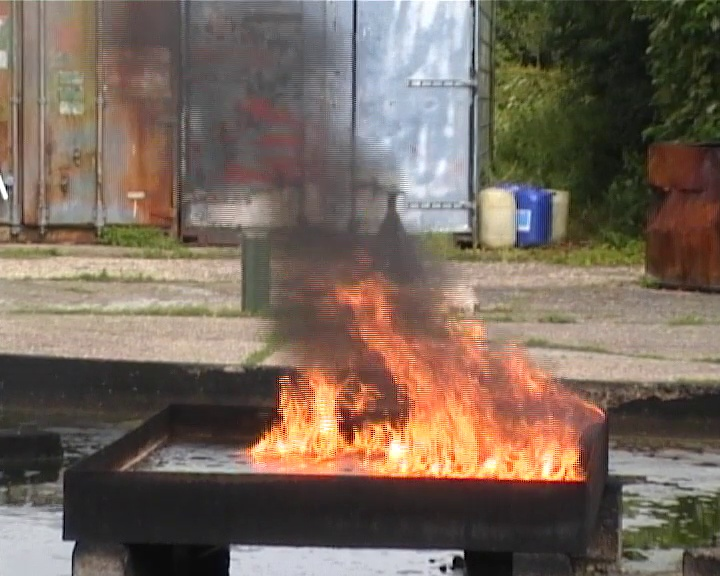fire: (250, 271, 581, 479)
